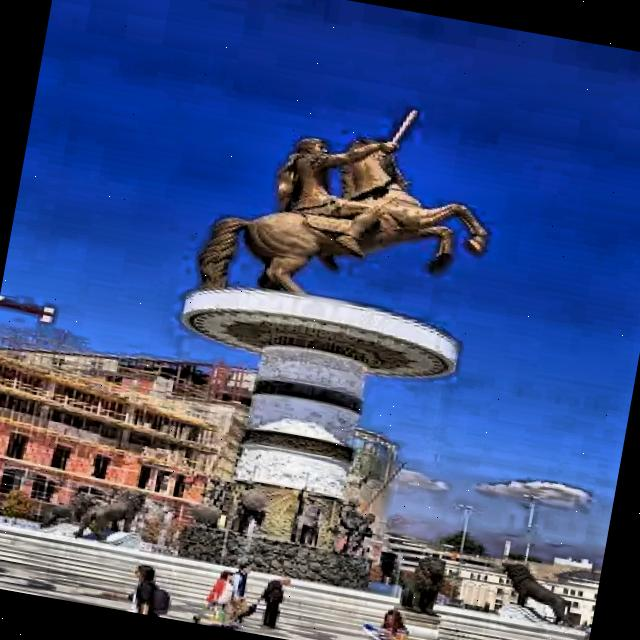alexander the great monument: (135, 64, 511, 586)
